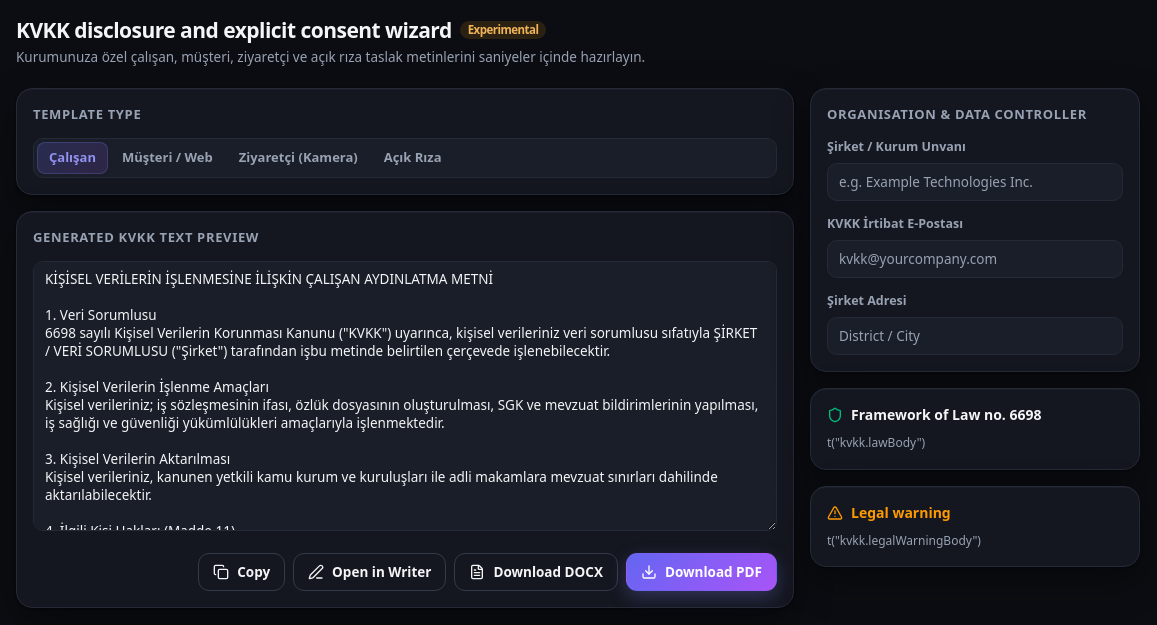
Scenario: KvkkWizard Screen (v5.4.0 - Issue #254) › renders KVKK wizard and switches template types
This screenshot has width=1157, height=625.
Check: the text "KVKK disclosure and explicit consent wizard" is shown, box [16, 16, 452, 44]
Check: the tab "Çalışan" is shown, box [37, 142, 108, 174]
Click on Müşteri template button
Click the tab "Müşteri / Web" at (167, 158), box [110, 142, 225, 174]
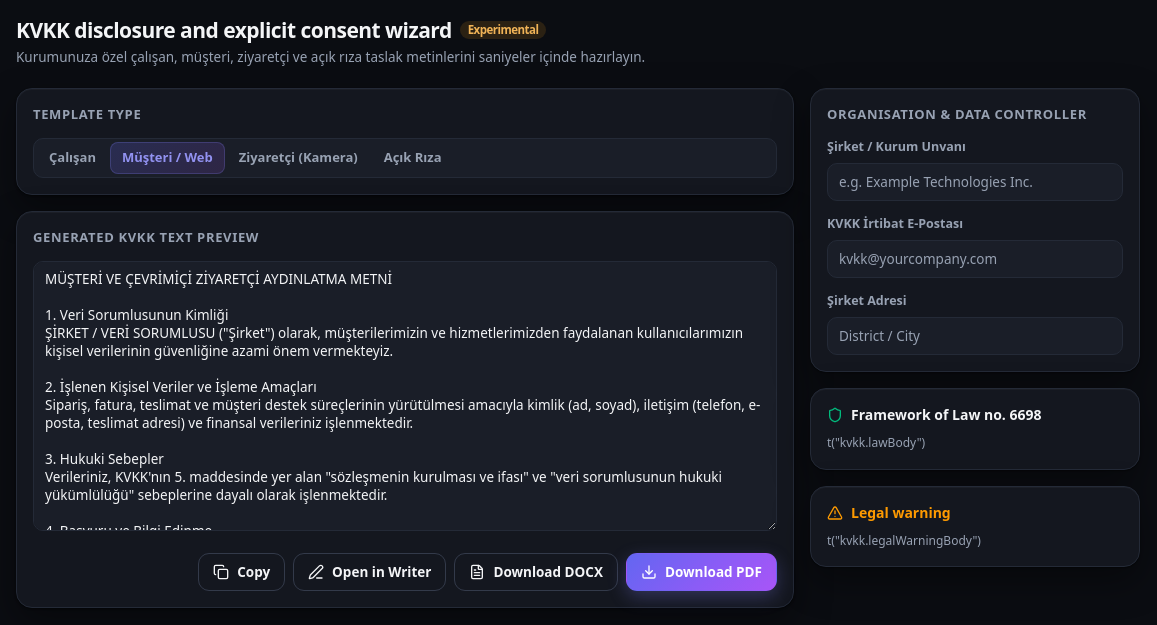
Check: the text box showing "MÜŞTERİ VE ÇEVRİMİÇİ ZİYARETÇİ AYDINLATMA METNİ" is shown, box [33, 261, 777, 531]
Fill in company name
Type "Test Bilişim Ltd." into the field with placeholder "e.g. Example Technologies Inc." at (975, 182), box [827, 163, 1123, 201]
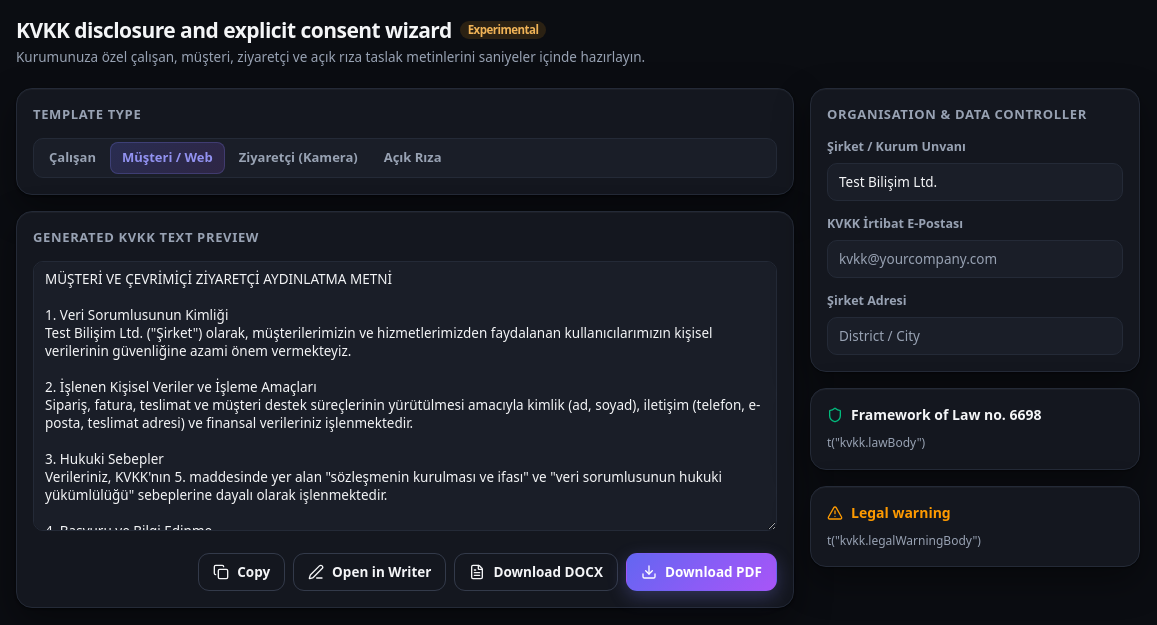
Check: the text box showing "Test Bilişim Ltd." is shown, box [33, 261, 777, 531]
